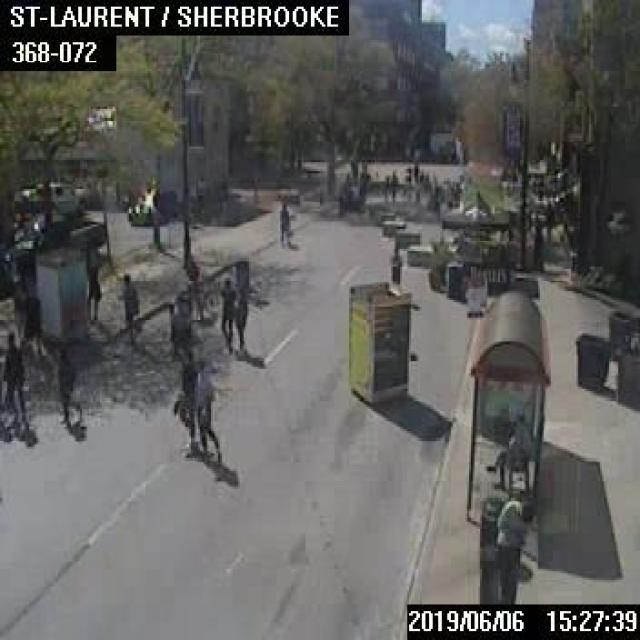pedestrian: (496, 479, 532, 601), (169, 350, 197, 458), (0, 329, 29, 431), (192, 356, 218, 462), (53, 344, 78, 434), (82, 244, 100, 320), (22, 288, 42, 356), (218, 275, 234, 349), (120, 271, 136, 336), (274, 198, 291, 249), (234, 285, 247, 351), (389, 242, 402, 282), (389, 169, 396, 201), (381, 173, 388, 201)
vehicle: (1, 213, 103, 271), (486, 414, 532, 485), (32, 181, 88, 214), (124, 194, 166, 223)
